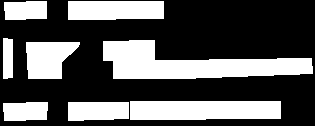parkingspot: (113, 58, 312, 78), (130, 101, 280, 119), (68, 1, 163, 19), (68, 102, 128, 120), (103, 40, 154, 61), (26, 42, 79, 62), (3, 102, 47, 120), (4, 1, 46, 19), (27, 59, 61, 78), (3, 38, 12, 78)
